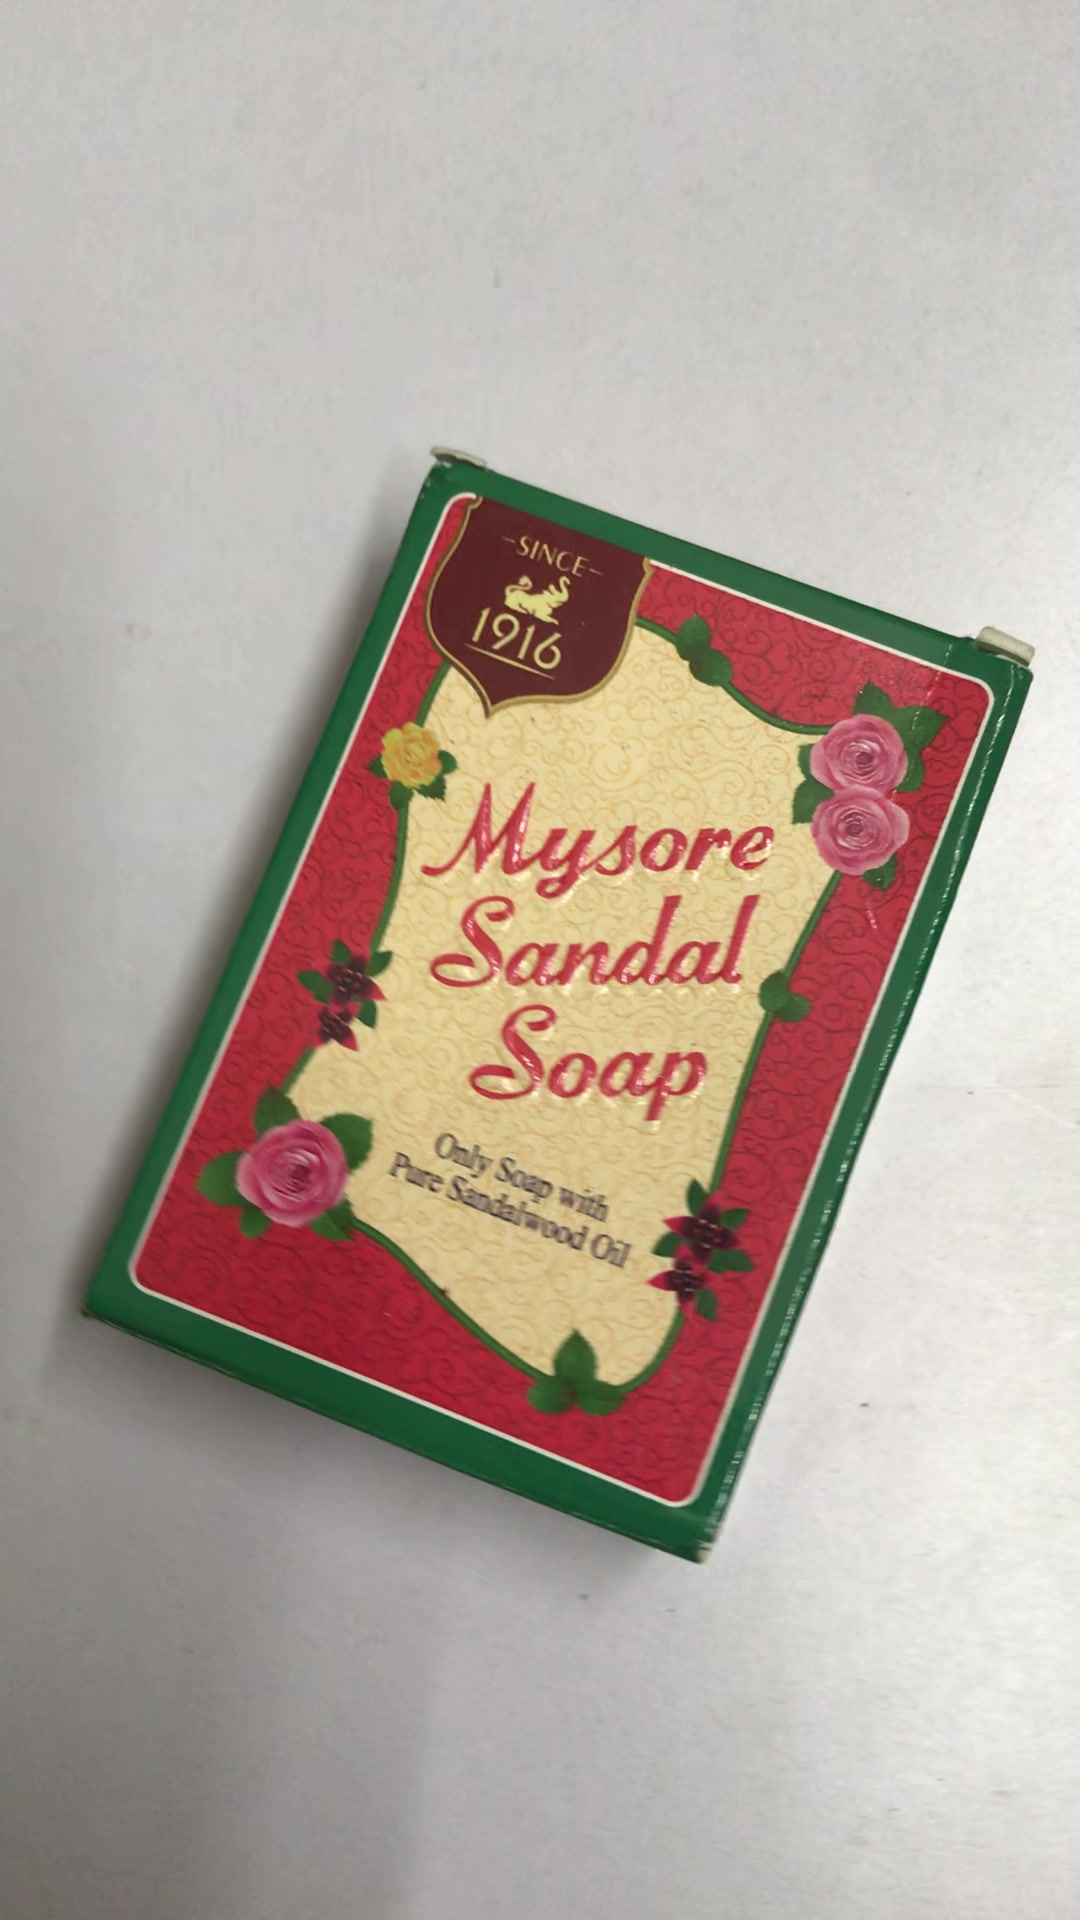mysore sandal soap: (80, 456, 1029, 1569)
